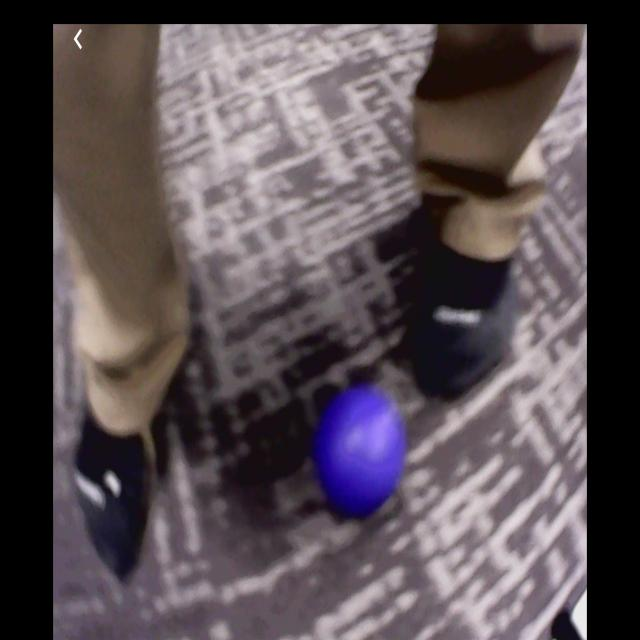ball: (316, 389, 408, 516)
